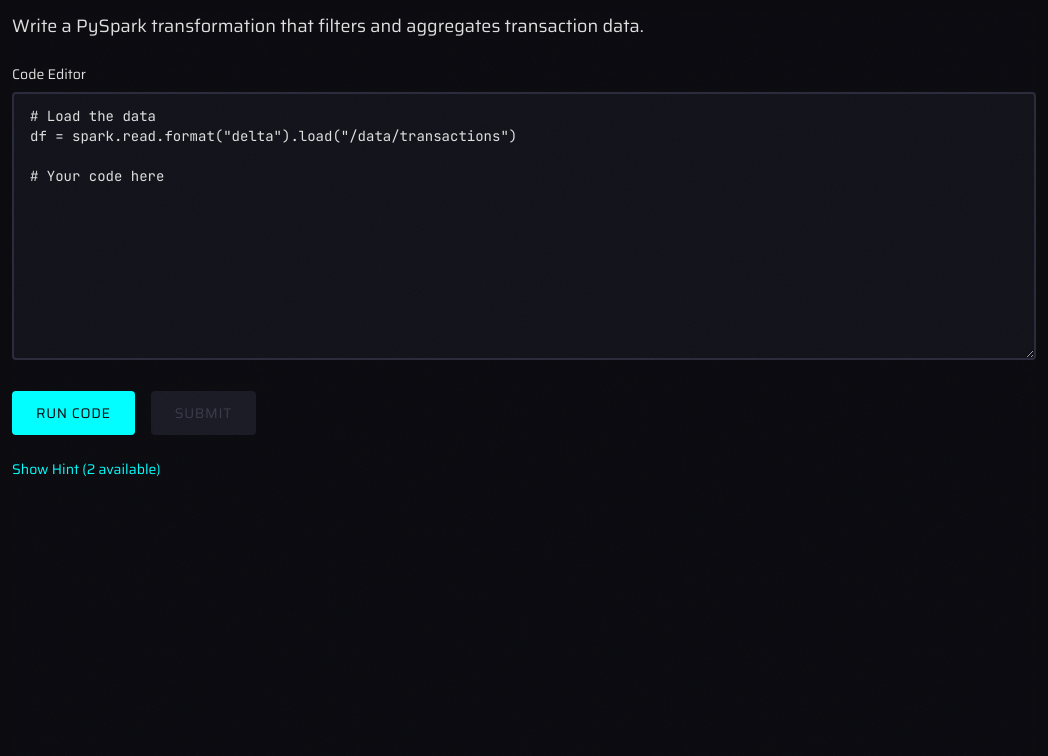
it: FreeTextChallenge › Code Validation › validates code against expected pattern when submitted
Replace the text in the text box labelled "Code Editor" with "df.groupBy('category').agg(sum('amount'))": coordinates (524, 226) [12,92,1036,360]
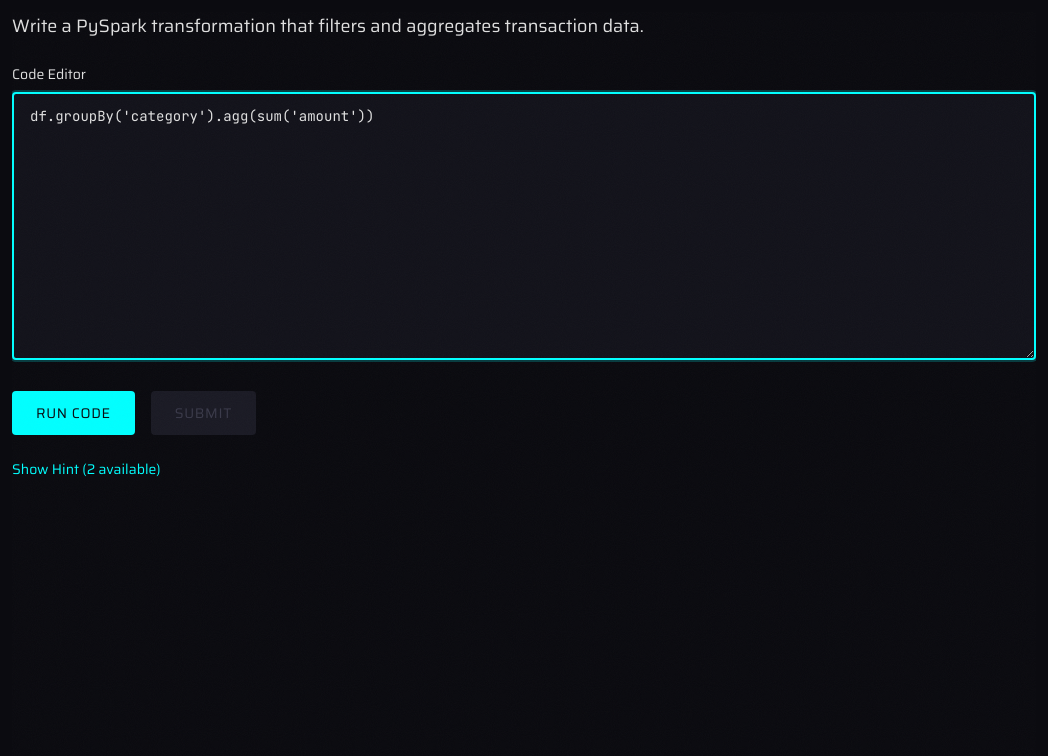
Click the button "Run Code": coordinates (73, 413) [12,391,135,435]
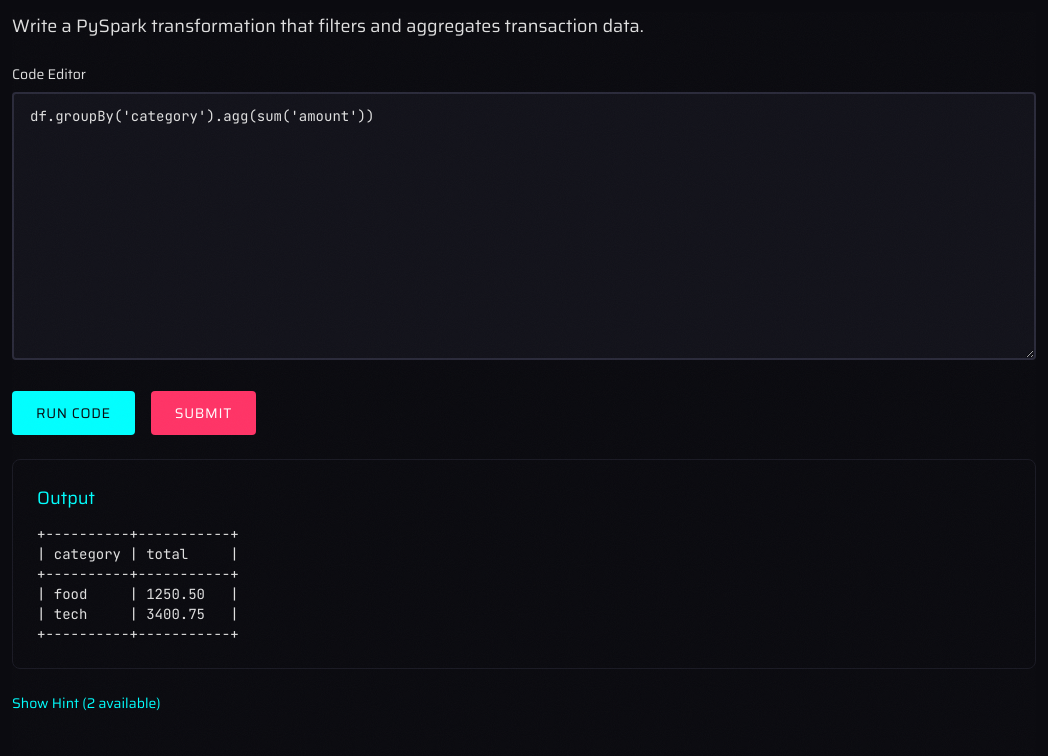
Now the button "Submit" is enabled
Click the button "Submit": coordinates (203, 413) [151,391,256,435]
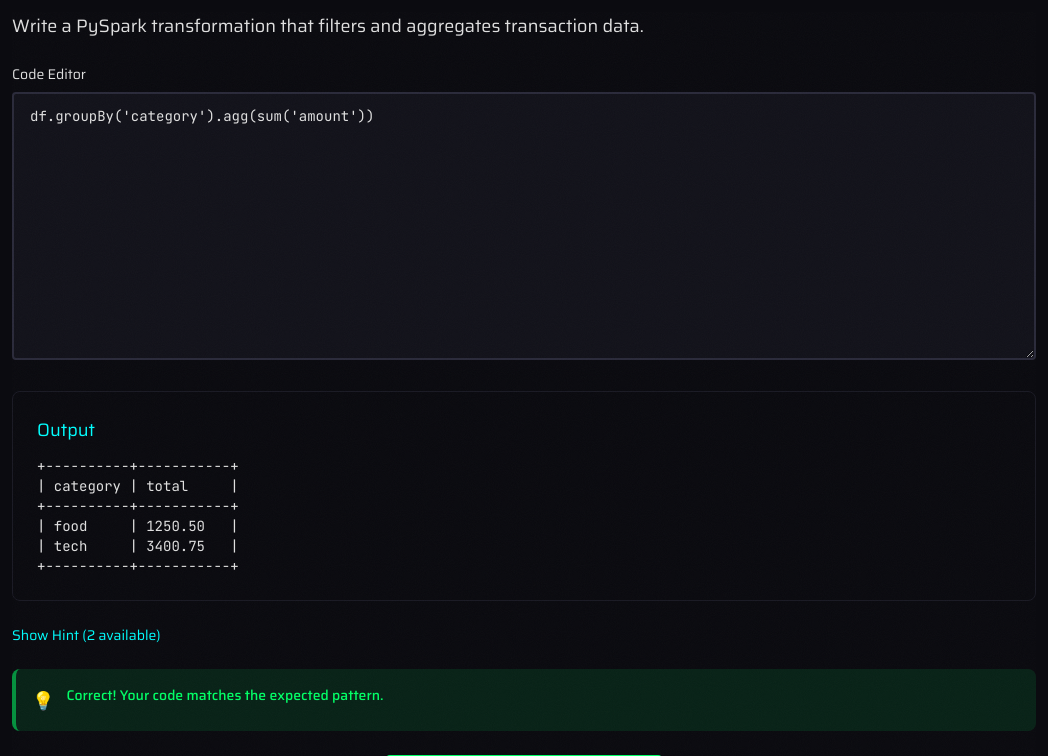
Now the text "Correct! Your code matches the expected pattern." is shown, box [66,684,384,706]
